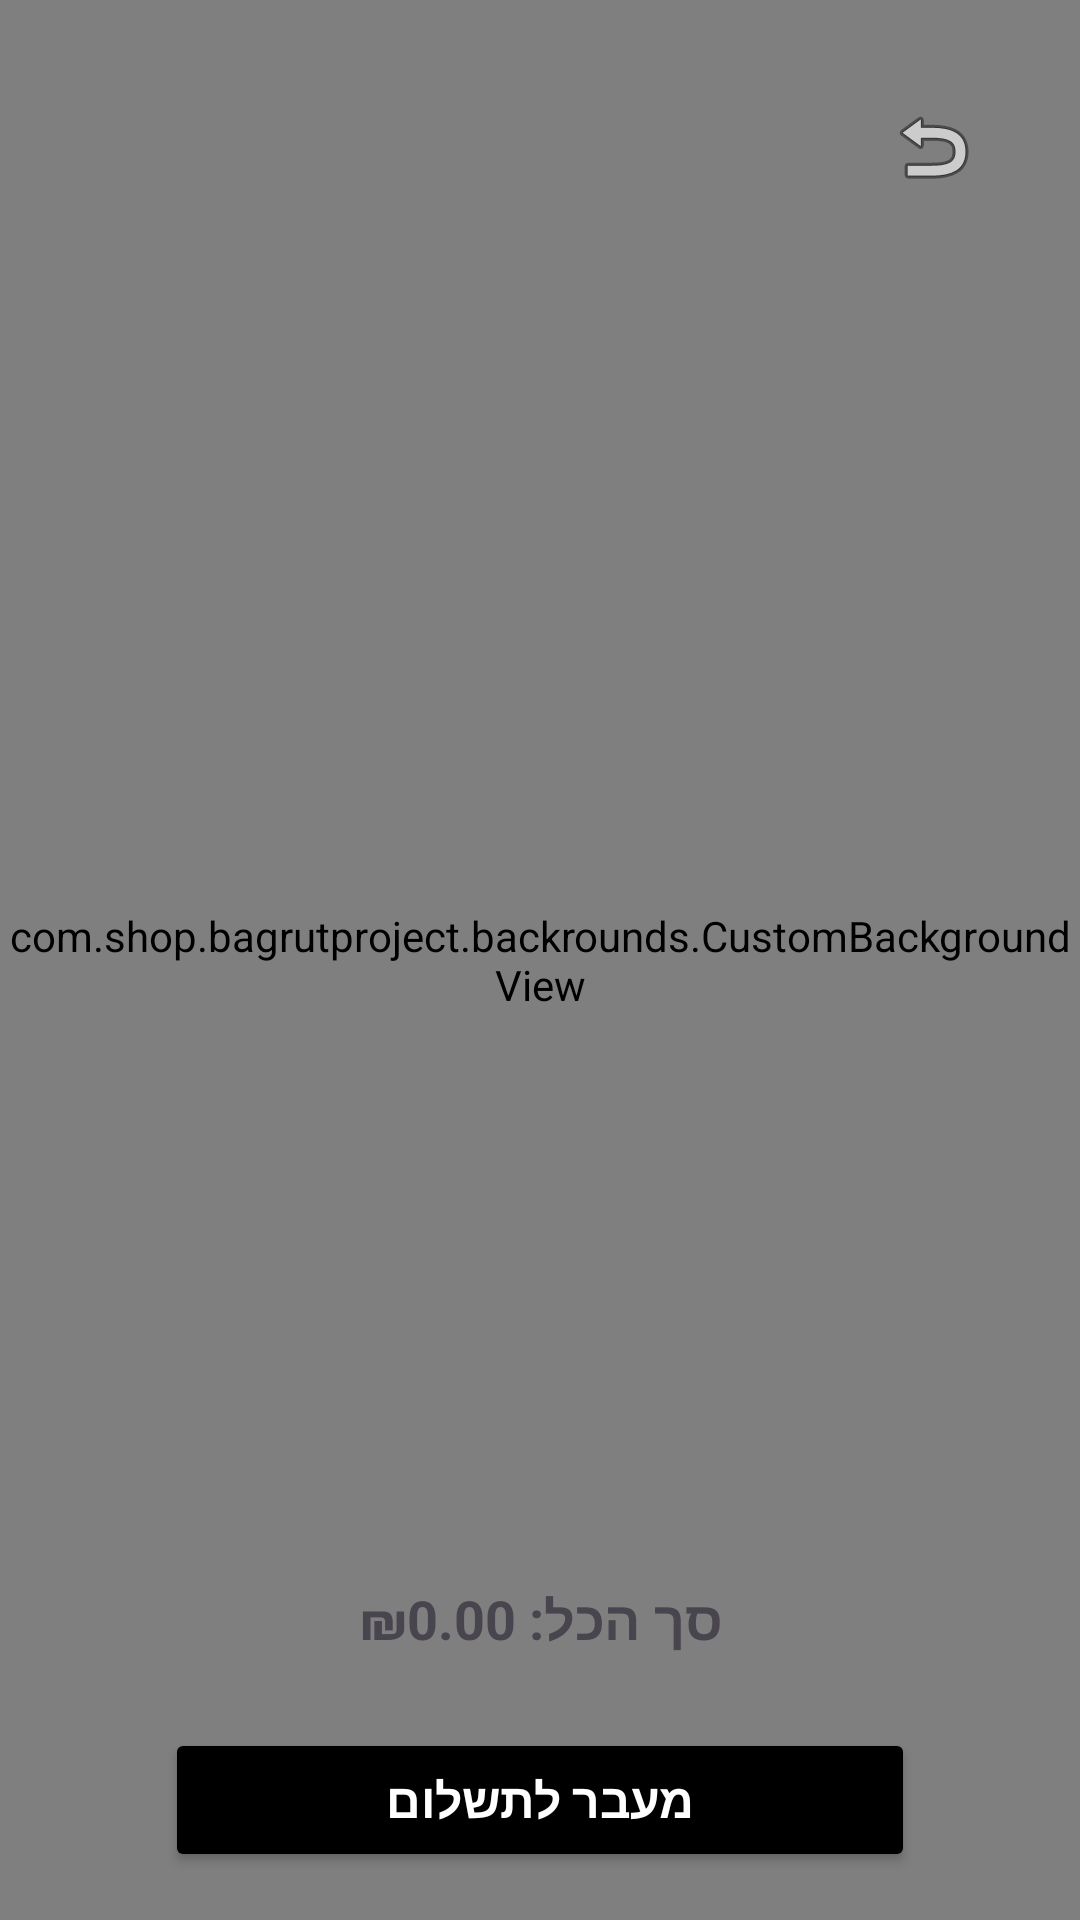

Icons on this 1080*1920 Android screen, each with the point to tap as [x,y]:
חזרה: [934,148]
